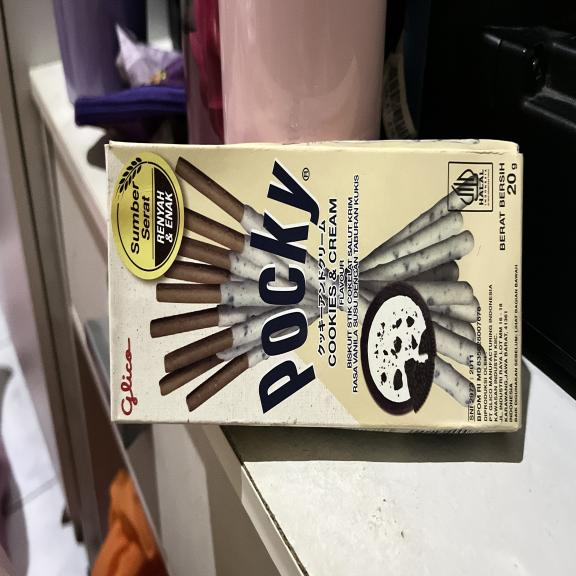Kertas: (106, 140, 521, 432)
